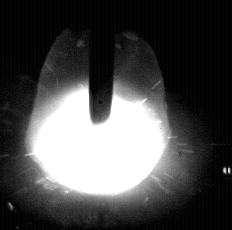arame: (90, 0, 113, 125)
poca: (24, 0, 172, 230)
